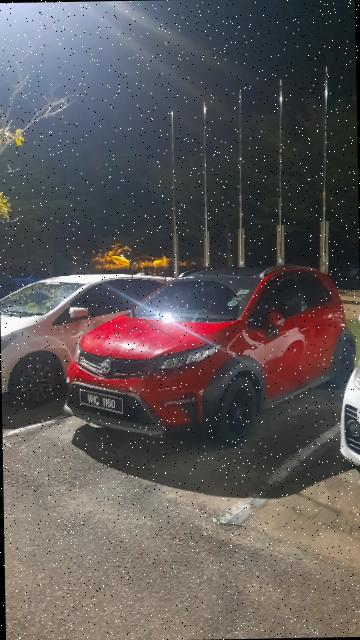License_Plate: (75, 386, 131, 420)
car: (64, 259, 360, 449), (1, 268, 204, 408)
